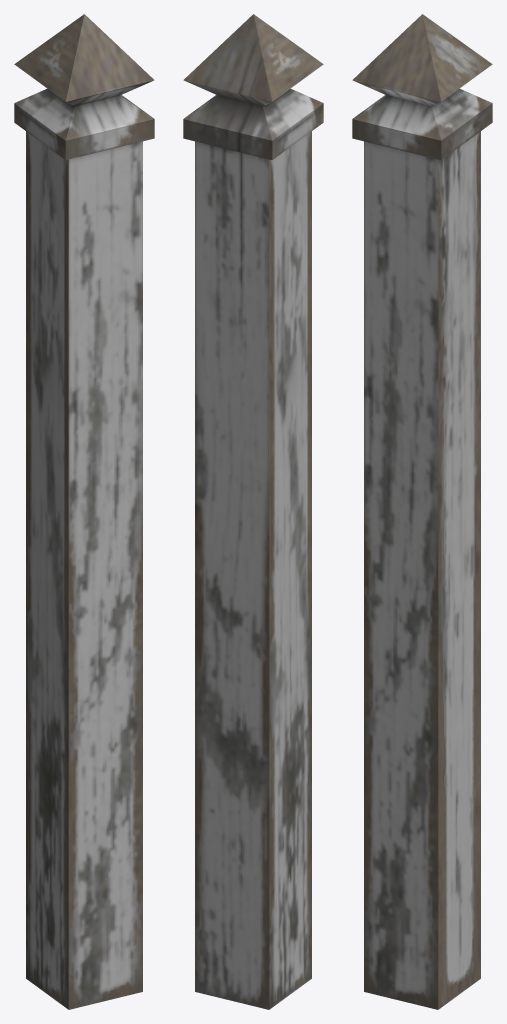
File: fence_post.glb
The picture shows the model from 3 angles, left to right: view 1: azimuth 30°, elevation 25°; view 2: azimuth 150°, elevation 25°; view 3: azimuth 330°, elevation 25°; orthographic projection.
Parts seen in each view (by area): view 1: fence_post; view 2: fence_post; view 3: fence_post.
Part boxes in pixels (box(x1,y1,x2,y2)): fence_post: box(14, 14, 154, 1009); fence_post: box(183, 14, 323, 1009); fence_post: box(352, 14, 492, 1009).
Bounding box in the file's own units: 0.1579 × 1.64 × 0.1579.
1 material, 1 textured.
